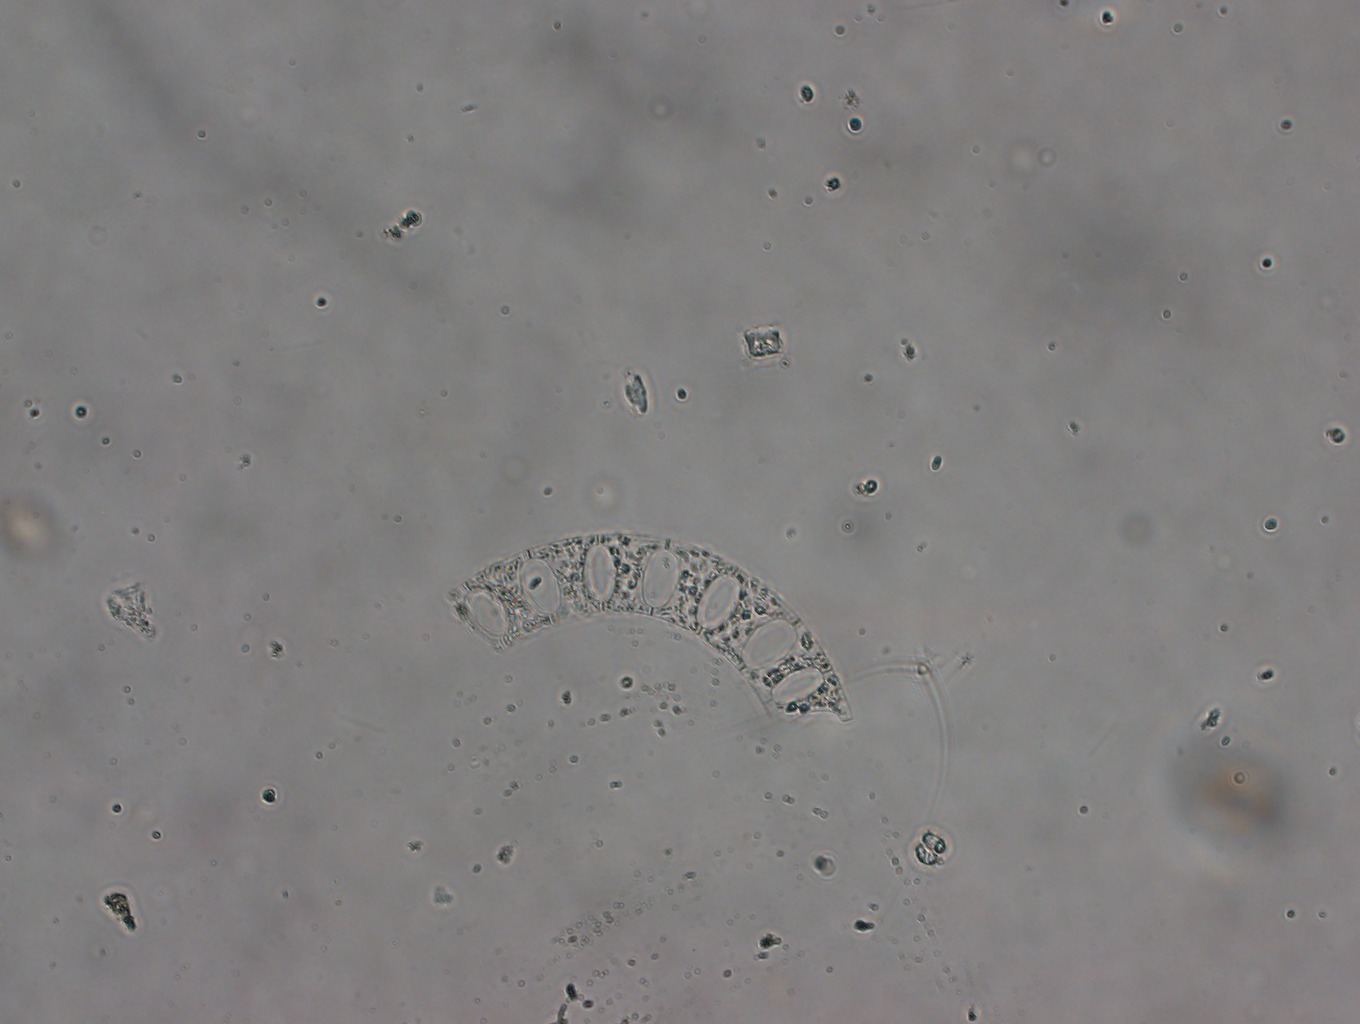eucampia: (445, 532, 857, 730)
